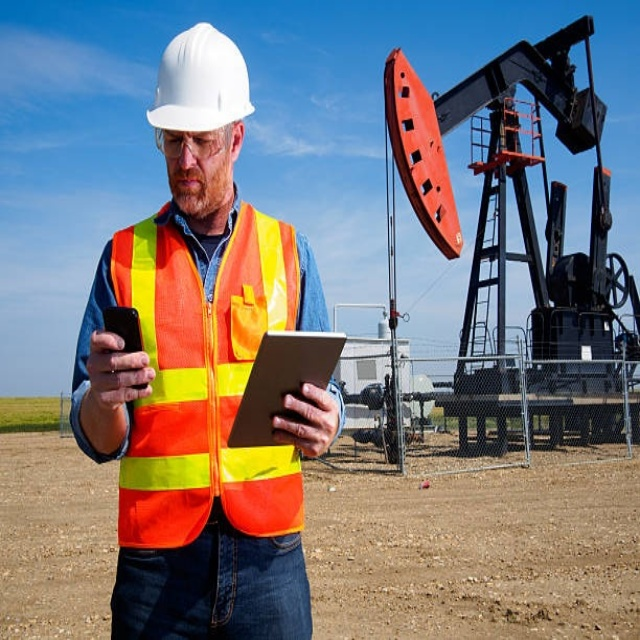Gafas: (155, 125, 231, 159)
Sin_guantes: (86, 328, 153, 410), (276, 379, 341, 457)
Sin_mascara: (166, 170, 209, 208)
